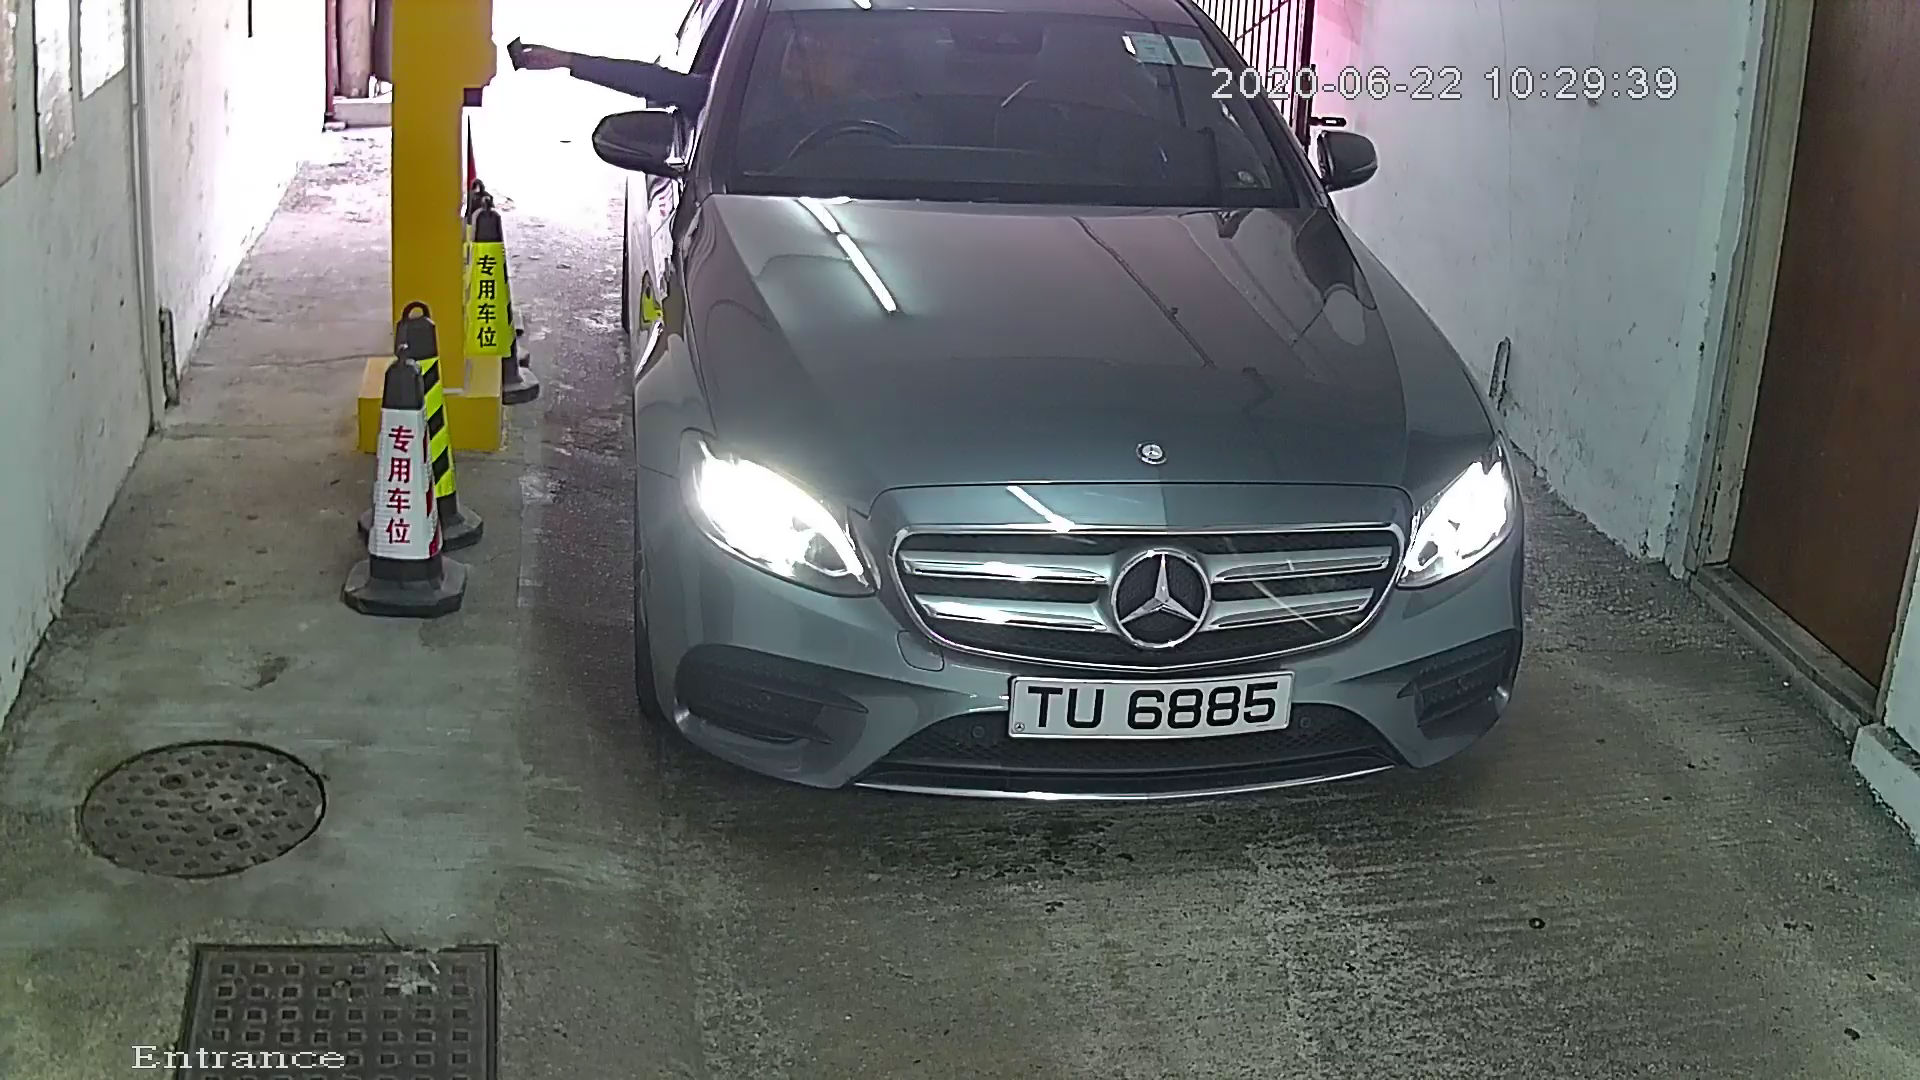privatecar: (549, 3, 1547, 903)
